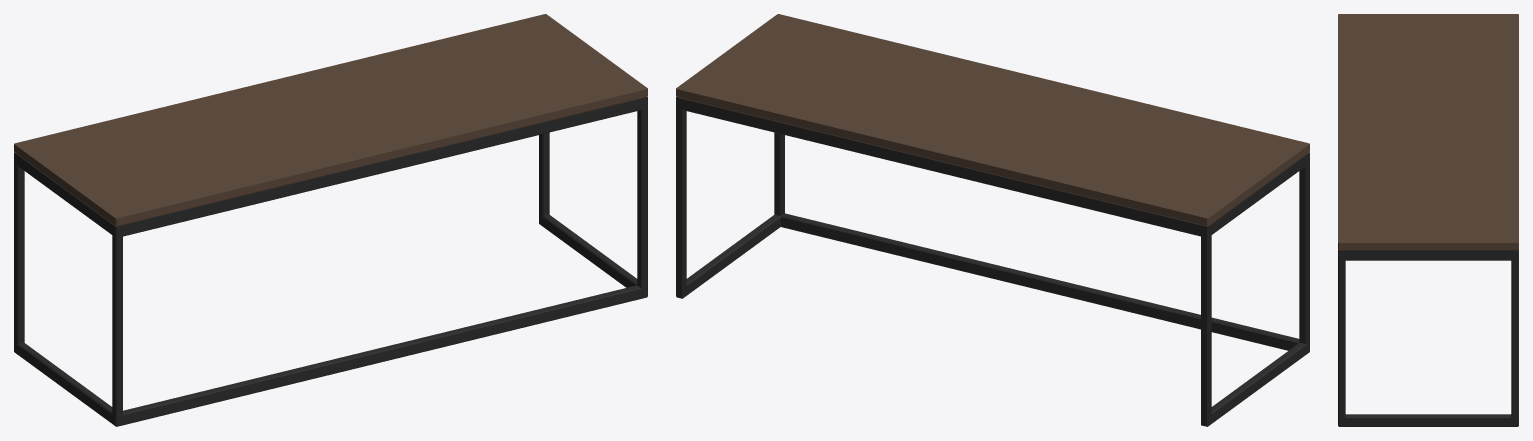
Rendered from table_wide.fbx.
3 renders of one model, left to right at view 1: azimuth 30°, elevation 25°; view 2: azimuth 150°, elevation 25°; view 3: azimuth 270°, elevation 25°, orthographic. The views are drawn at different scales.
Parts seen in each view (by area): view 1: table_wide; view 2: table_wide; view 3: table_wide.
Boxes of the visible parts, x1=… form: table_wide: x1=14, y1=14, x2=647, y2=426; table_wide: x1=676, y1=14, x2=1309, y2=426; table_wide: x1=1338, y1=14, x2=1518, y2=426.
Bounding box in the file's own units: 2.4 × 0.8 × 0.9.
